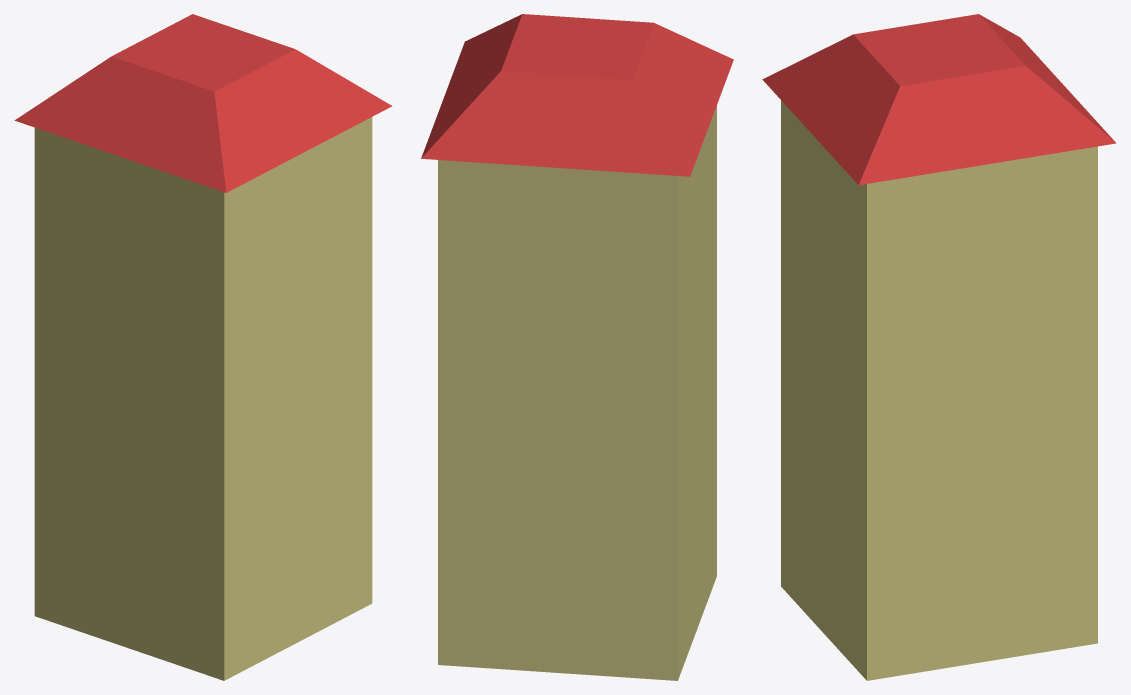
The picture shows the model from 3 angles, left to right: view 1: azimuth 30°, elevation 25°; view 2: azimuth 150°, elevation 25°; view 3: azimuth 270°, elevation 25°; orthographic projection. The views are drawn at different scales.
Bounding box in the file's own units: 6 × 6.08 × 10.69.
